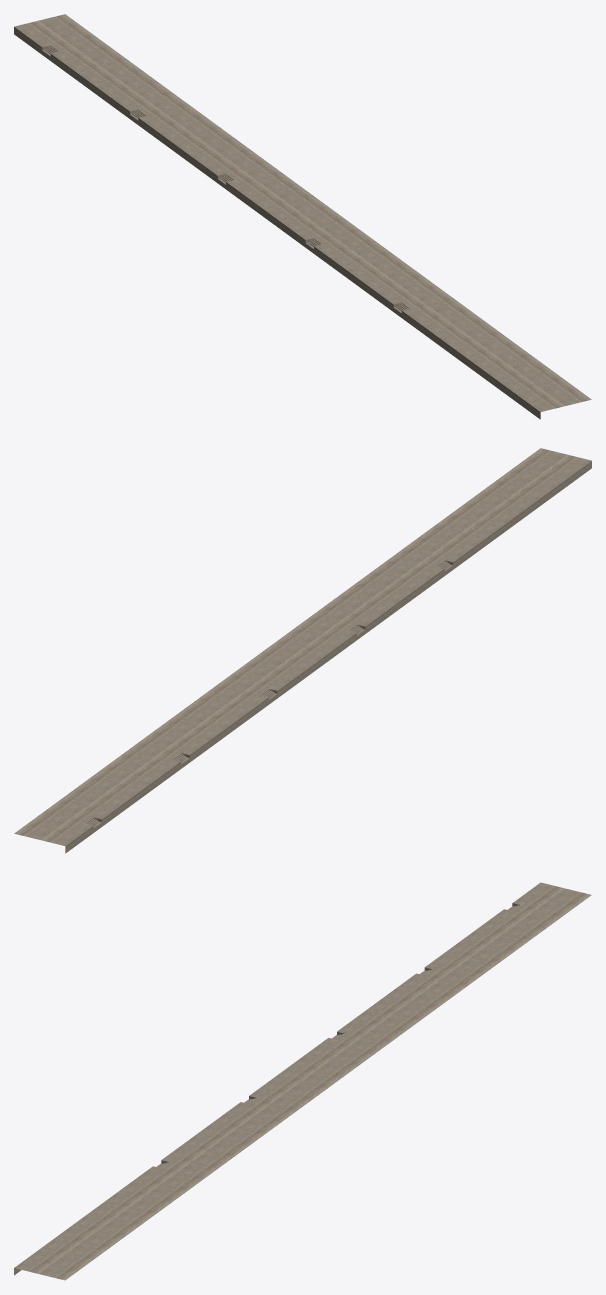
Rendered from dixing_02.FBX.
3 renders of one model, top to bottom at view 1: azimuth 30°, elevation 25°; view 2: azimuth 150°, elevation 25°; view 3: azimuth 330°, elevation 25°, orthographic.
Parts seen in each view (by area): view 1: dixing_02; view 2: dixing_02; view 3: dixing_02.
Part boxes in pixels (x1=…): dixing_02: x1=14, y1=14, x2=591, y2=419; dixing_02: x1=14, y1=448, x2=591, y2=853; dixing_02: x1=14, y1=882, x2=591, y2=1280.
Bounding box in the file's own units: 1344 × 192 × 23903.
